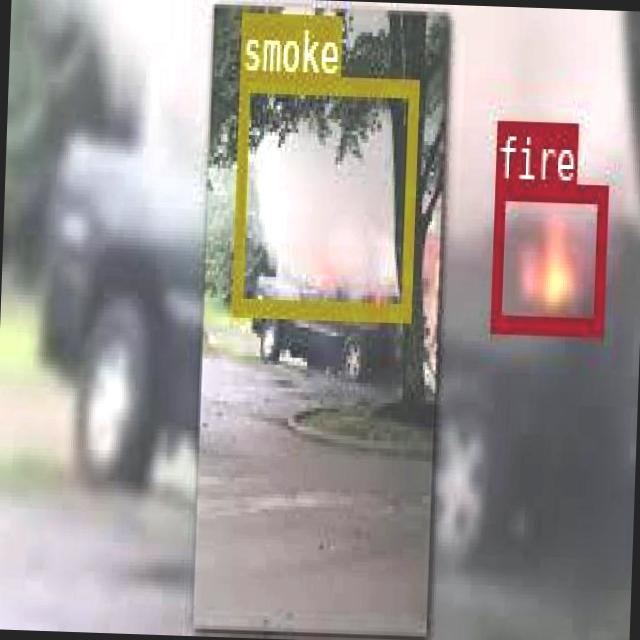fire: (489, 181, 605, 333)
smoke: (230, 71, 417, 316)
